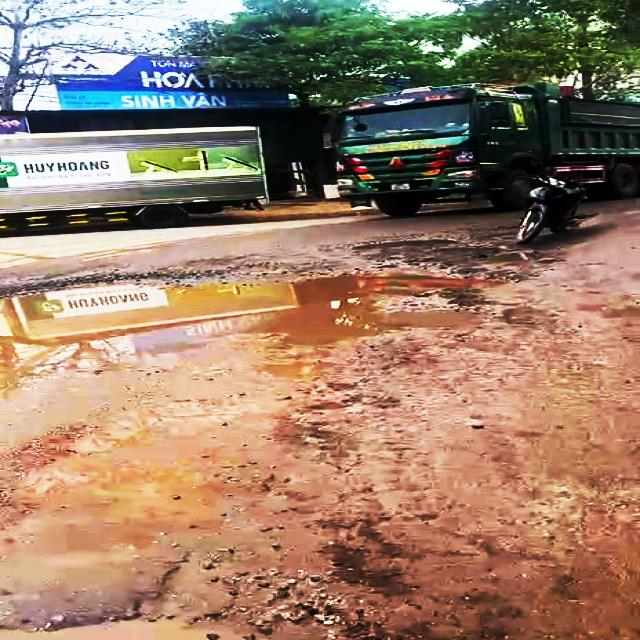pothole: (0, 241, 519, 474), (0, 578, 368, 640)
